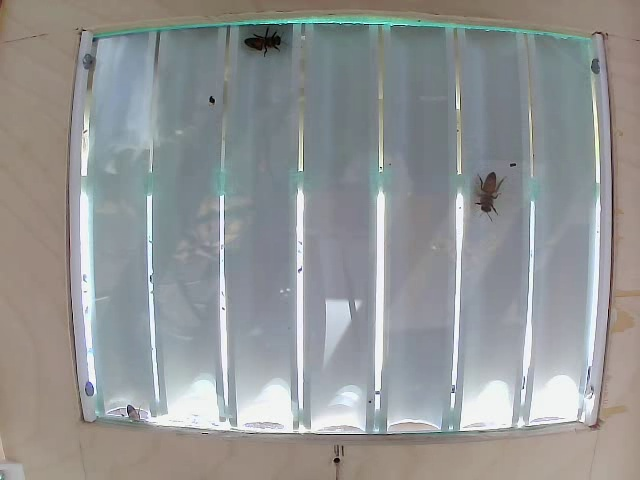bee: (475, 169, 514, 225), (238, 31, 283, 71)
